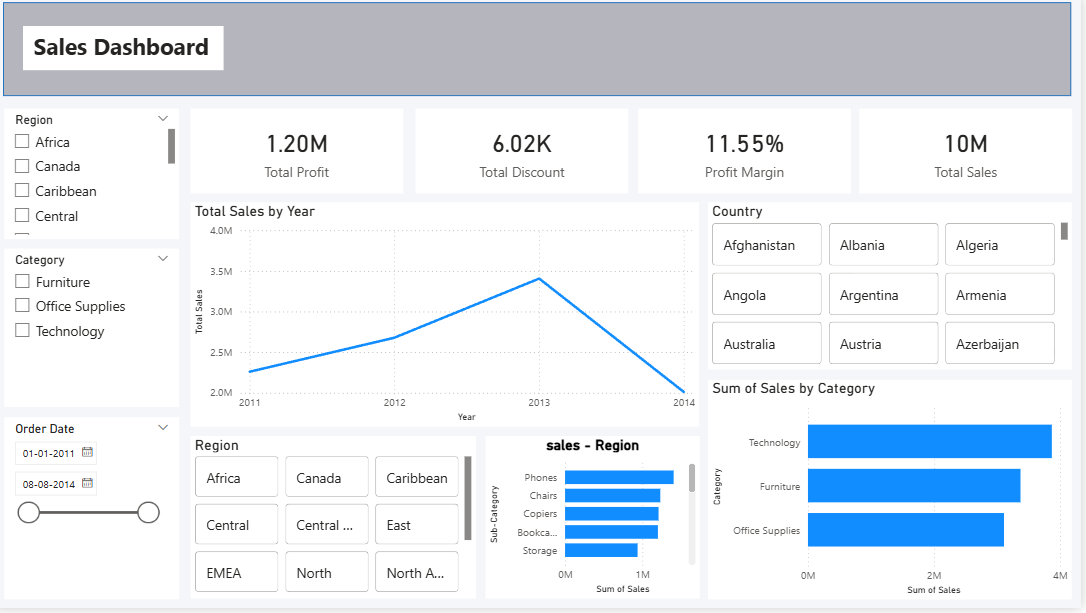

The page's visual inventory and layout, read from the dashboard file:
{"tool":"powerbi","page":{"name":"Sales Dashboard","canvas":[1280,720],"ordinal":0},"visuals":[{"type":"card","fields":{"Values":["Global_Superstore2.Total Discount"]},"box":[497,132.8,250.7,100],"z":0},{"type":"card","fields":{"Values":["Global_Superstore2.Total Profit"]},"box":[232.8,132.8,250,100],"z":1000},{"type":"card","fields":{"Values":["Global_Superstore2.Total Sales"]},"box":[1019.4,132.8,250.7,100],"z":2000},{"type":"advancedSlicerVisual","fields":{"Values":["Global_Superstore2.Region"]},"box":[232.8,517.9,335.8,191],"z":3000},{"type":"advancedSlicerVisual","fields":{"Values":["Global_Superstore2.Country"]},"box":[841.8,243.3,428.4,197],"z":4000},{"type":"card","fields":{"Values":["Global_Superstore2.Total Margin"]},"box":[758.2,132.8,250.7,100],"z":5000},{"type":"lineChart","fields":{"Category":["Global_Superstore2.Order Date.Variation.Date Hierarchy.Year","Global_Superstore2.Order Date.Variation.Date Hierarchy.Quarter","Global_Superstore2.Order Date.Variation.Date Hierarchy.Month","Global_Superstore2.Order Date.Variation.Date Hierarchy.Day"],"Y":["Global_Superstore2.Total Sales"]},"box":[232.8,243.3,598.5,264.2],"z":6000},{"type":"clusteredBarChart","fields":{"Category":["Global_Superstore2.Category"],"Y":["Sum(Global_Superstore2.Sales)"]},"box":[841.8,450.7,428.4,258.2],"z":7000},{"type":"slicer","fields":{"Values":["Global_Superstore2.Category"]},"box":[13.4,297,206,186.6],"z":8000},{"type":"clusteredBarChart","fields":{"Y":["Sum(Global_Superstore2.Sales)"],"Category":["Global_Superstore2.Sub-Category"]},"box":[579.1,517.9,252.2,191],"z":9000},{"type":"shape","box":[11.9,7.5,1256.7,110.4],"z":10000},{"type":"textbox","box":[35.8,35.8,235.8,52.2],"z":11000},{"type":"slicer","fields":{"Values":["Global_Superstore2.Region"]},"box":[13.4,132.8,206,153.7],"z":12000},{"type":"slicer","fields":{"Values":["Global_Superstore2.Order Date"]},"box":[13.4,495.5,206,213.4],"z":13000}]}

Visuals, with their boxes in screenshot pixels (x1, y1, x2, y2), scaled from the page's 1280x720 canvas onto the 1086x613 screenshot:
card - Global_Superstore2.Total Discount: x1=422, y1=113, x2=634, y2=198
card - Global_Superstore2.Total Profit: x1=198, y1=113, x2=410, y2=198
card - Global_Superstore2.Total Sales: x1=865, y1=113, x2=1078, y2=198
advancedSlicerVisual - Global_Superstore2.Region: x1=198, y1=441, x2=482, y2=604
advancedSlicerVisual - Global_Superstore2.Country: x1=714, y1=207, x2=1078, y2=375
card - Global_Superstore2.Total Margin: x1=643, y1=113, x2=856, y2=198
lineChart - Global_Superstore2.Order Date.Variation.Date Hierarchy.Year x Global_Superstore2.Order Date.Variation.Date Hierarchy.Quarter: x1=198, y1=207, x2=705, y2=432
clusteredBarChart - Global_Superstore2.Category x Sum(Global_Superstore2.Sales): x1=714, y1=384, x2=1078, y2=604
slicer - Global_Superstore2.Category: x1=11, y1=253, x2=186, y2=412
clusteredBarChart - Sum(Global_Superstore2.Sales) x Global_Superstore2.Sub-Category: x1=491, y1=441, x2=705, y2=604
shape: x1=10, y1=6, x2=1076, y2=100
textbox: x1=30, y1=30, x2=230, y2=75
slicer - Global_Superstore2.Region: x1=11, y1=113, x2=186, y2=244
slicer - Global_Superstore2.Order Date: x1=11, y1=422, x2=186, y2=604
